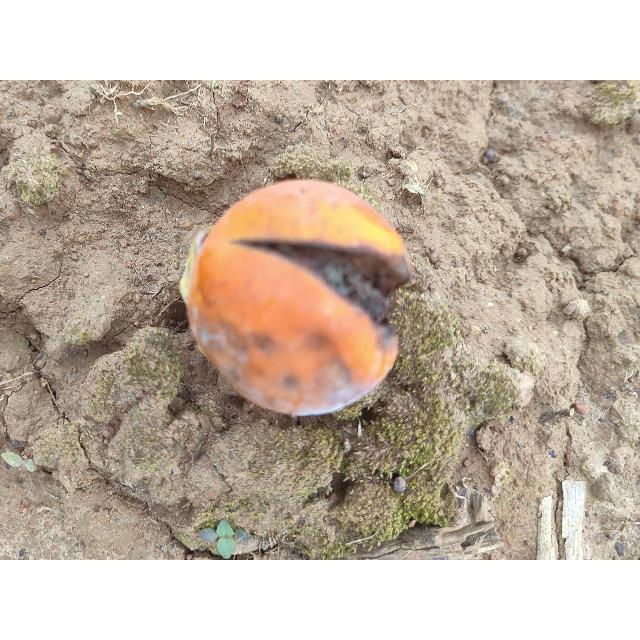damaged: (179, 179, 411, 418)
